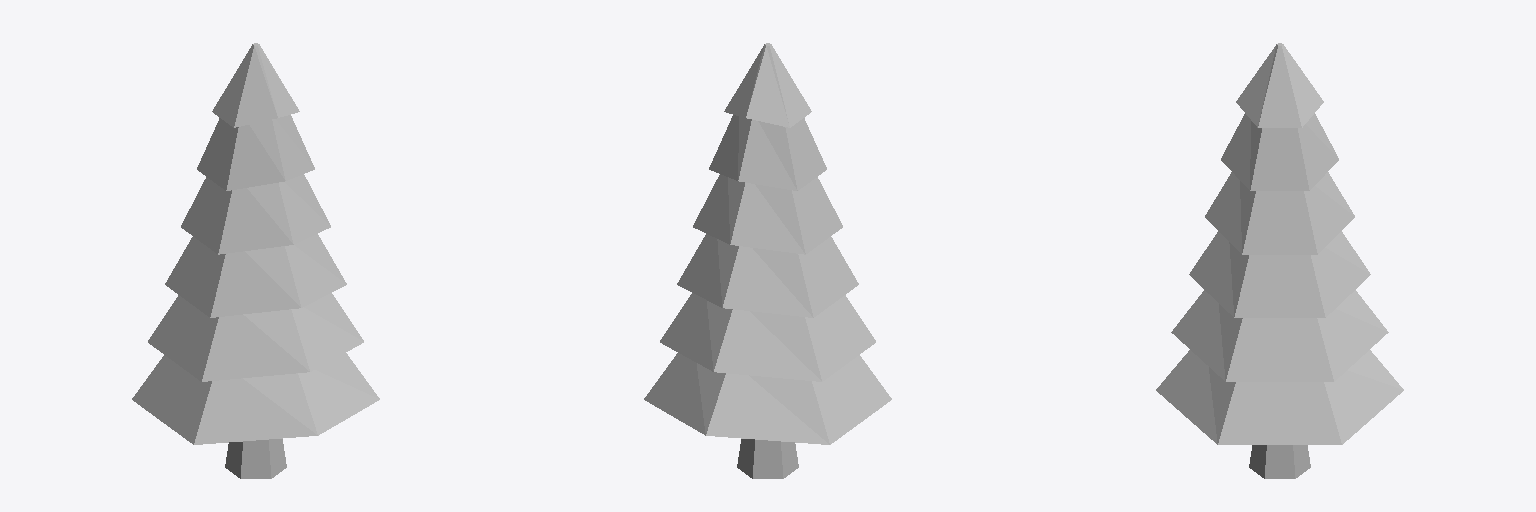
The model's file is Natures_Fir Tree.obj.
3 views of the same model, side by side, from view 1: azimuth 30°, elevation 25°; view 2: azimuth 150°, elevation 25°; view 3: azimuth 270°, elevation 25° (orthographic).
Visible parts, largest first — view 1: Natures_Fir_Tree; view 2: Natures_Fir_Tree; view 3: Natures_Fir_Tree.
Part boxes in pixels (x1,y1,x2,y2): Natures_Fir_Tree: (132, 43, 379, 478); Natures_Fir_Tree: (644, 43, 891, 478); Natures_Fir_Tree: (1156, 43, 1403, 478).
Size of the model in its own units: 133 by 289 by 154.